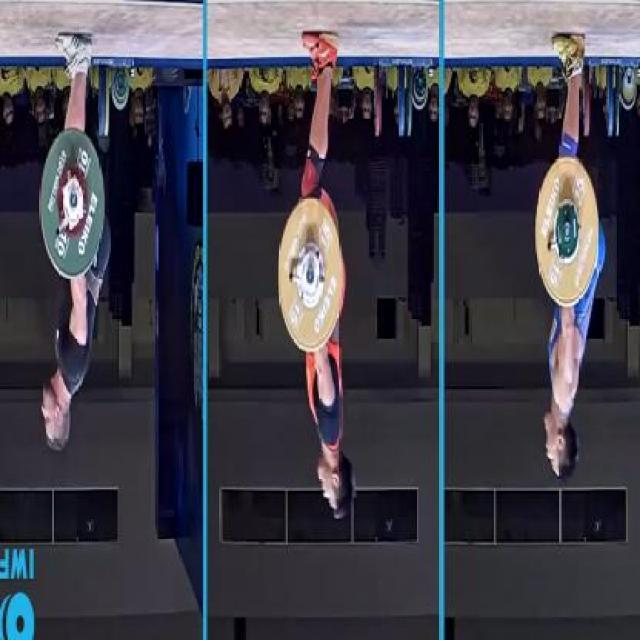Barbell: (298, 250, 320, 307), (556, 206, 578, 259), (62, 176, 82, 218)
